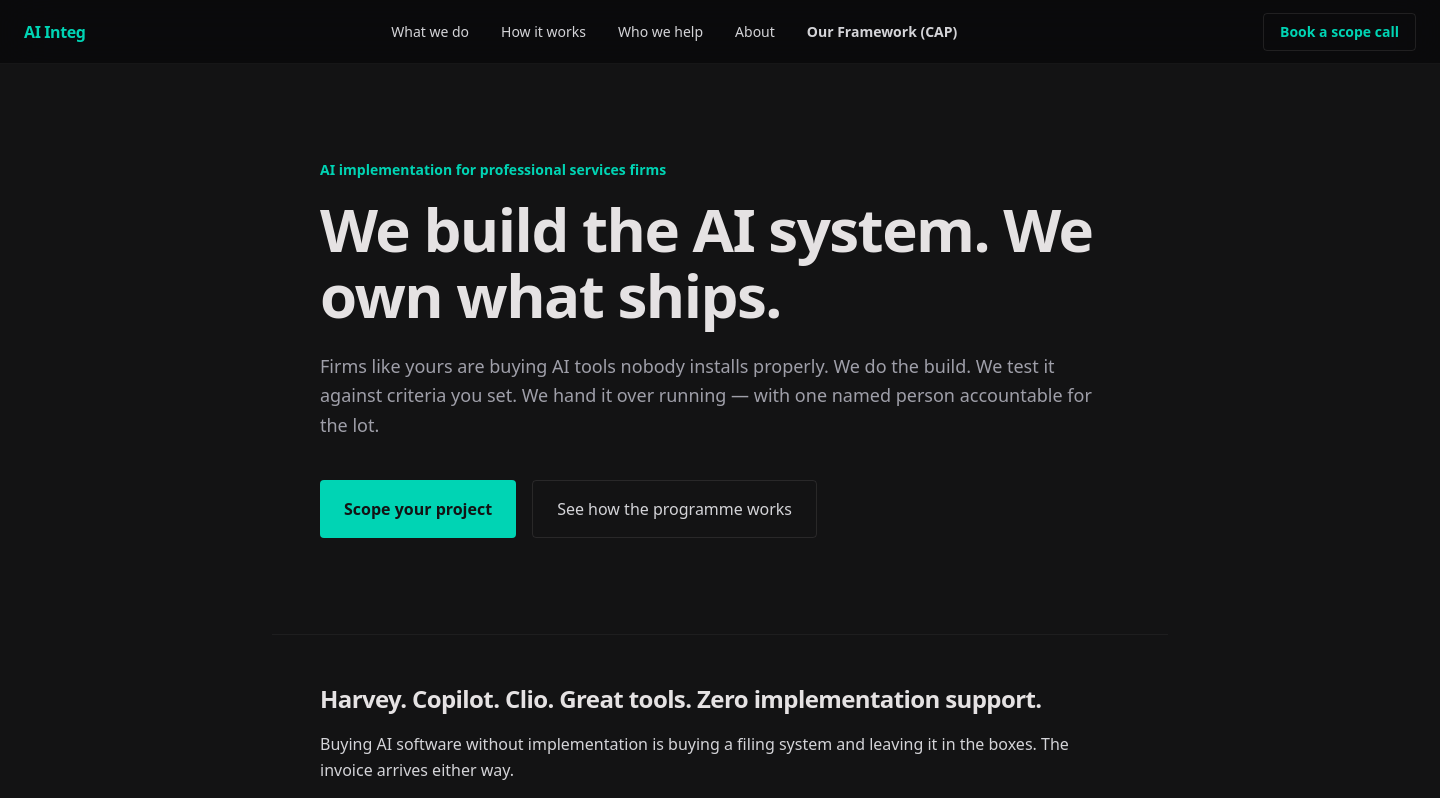
Test: App › navigates to framework page (CAP) and back to homepage
Note: Toggle to framework view
Click the button "Our Framework (CAP)" at point(882, 32), box [807, 22, 957, 42]
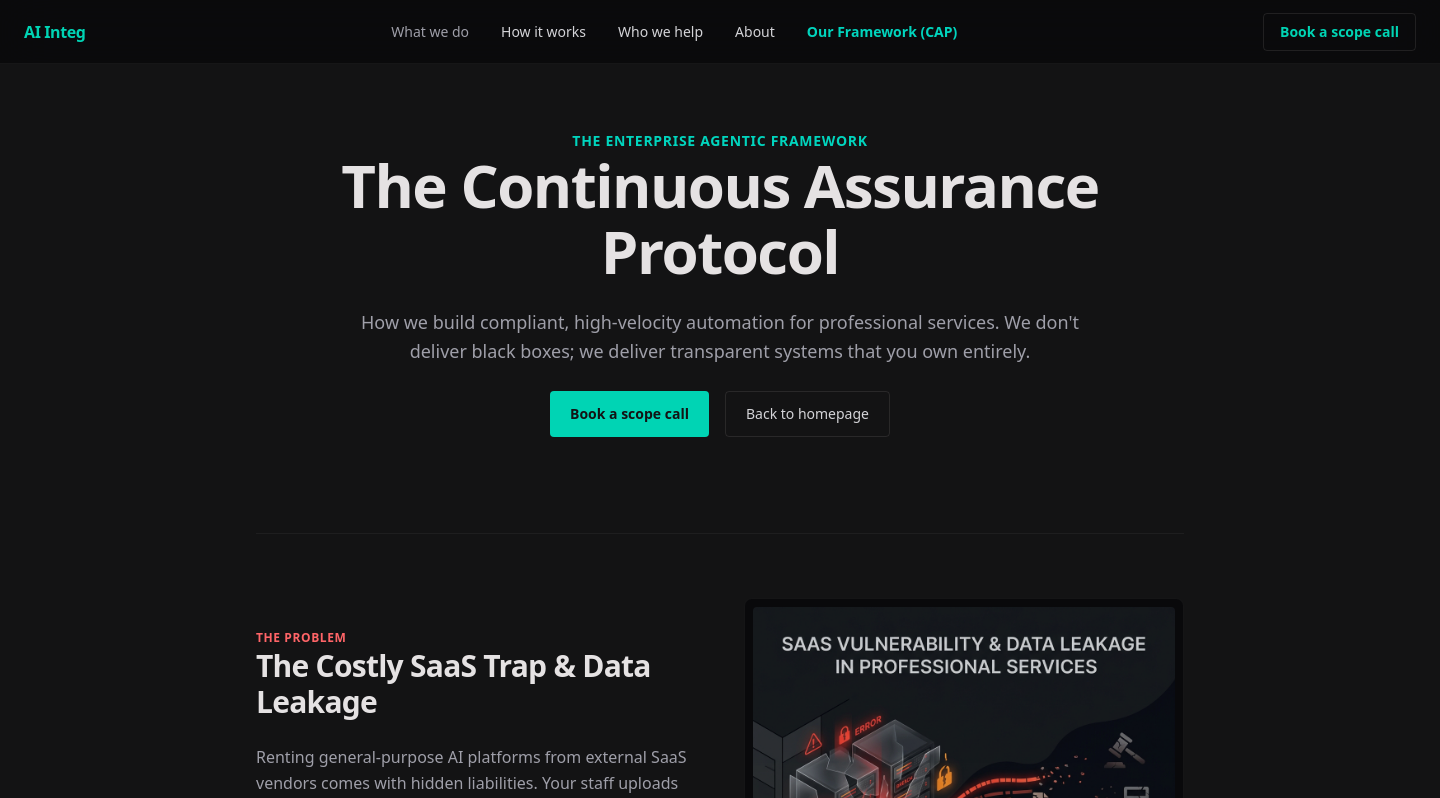
Expected: the heading "The Continuous Assurance Protocol" is shown, [336, 152, 1104, 284]
Expected: the heading "The Costly SaaS Trap & Data Leakage" is shown, [256, 648, 696, 720]
Note: Toggle back to homepage using the button
Click the button "Back to homepage" at point(808, 414), box [725, 390, 890, 436]
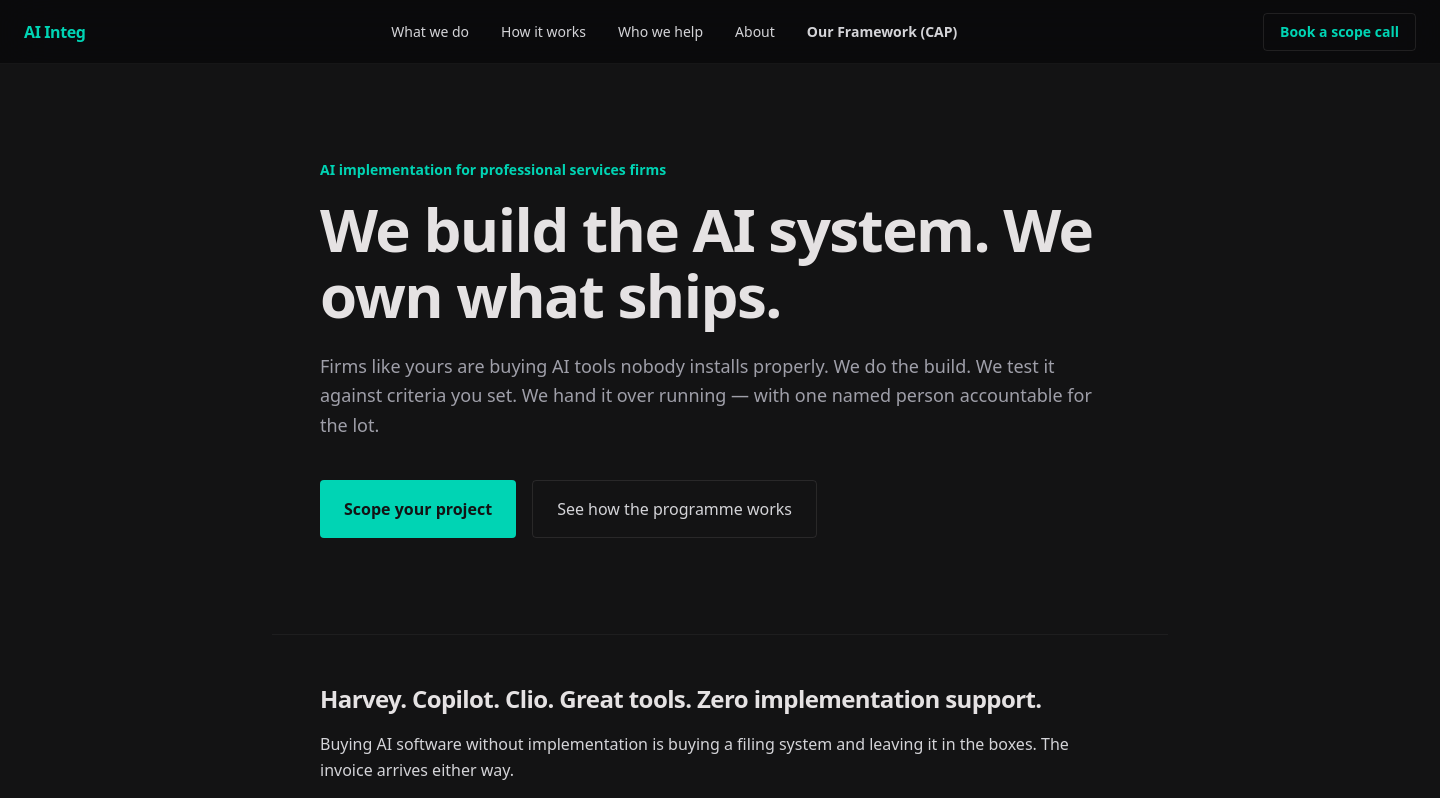
Expected: the heading "We build the AI system. We own what ships." is shown, [320, 196, 1120, 328]
